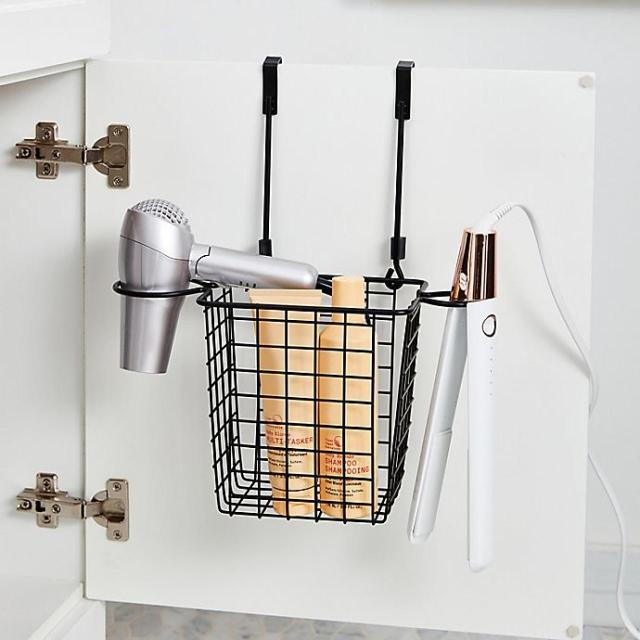dryer: (91, 188, 326, 387)
